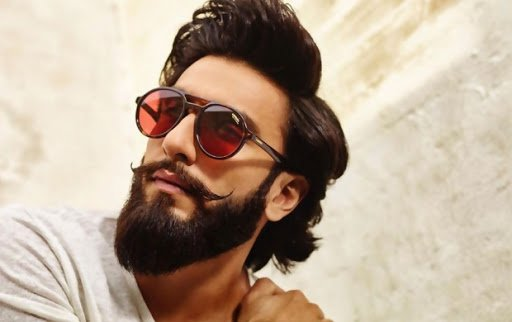noMask: (110, 1, 325, 272)
